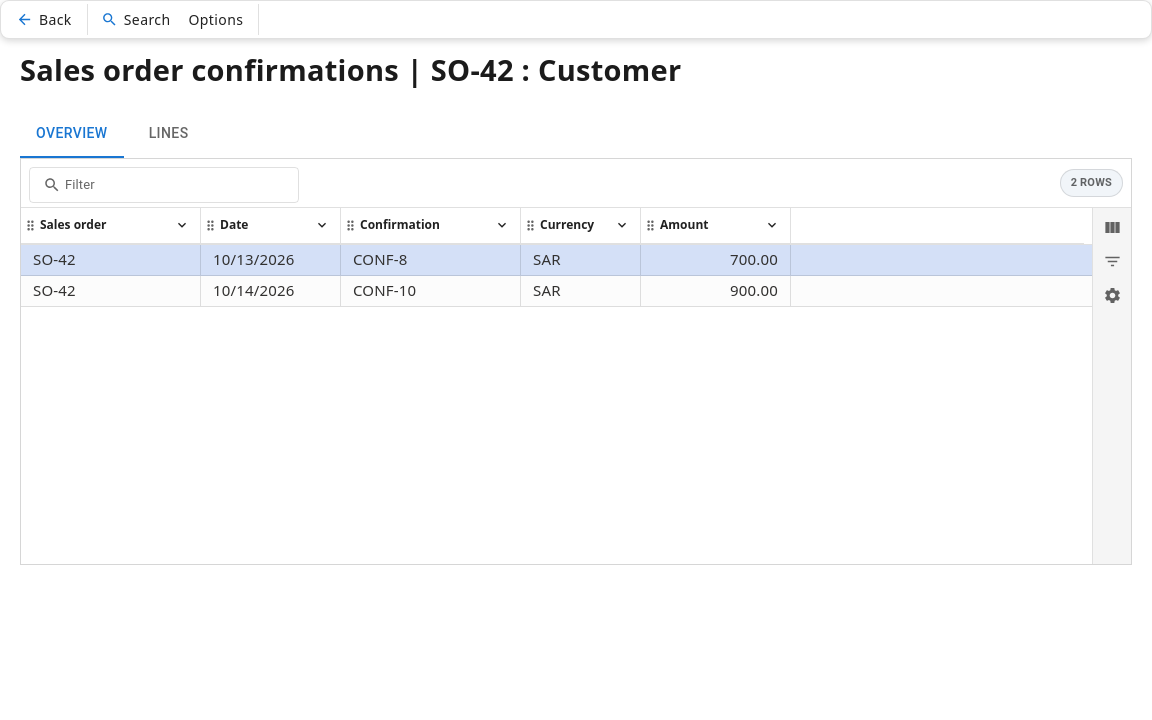
Scenario: CustConfirmJournal › shows lines for the selected confirmation and returns to overview
The width and height of the screenshot is (1152, 720).
Click the text "CONF-10" at (385, 290), box [353, 280, 416, 300]
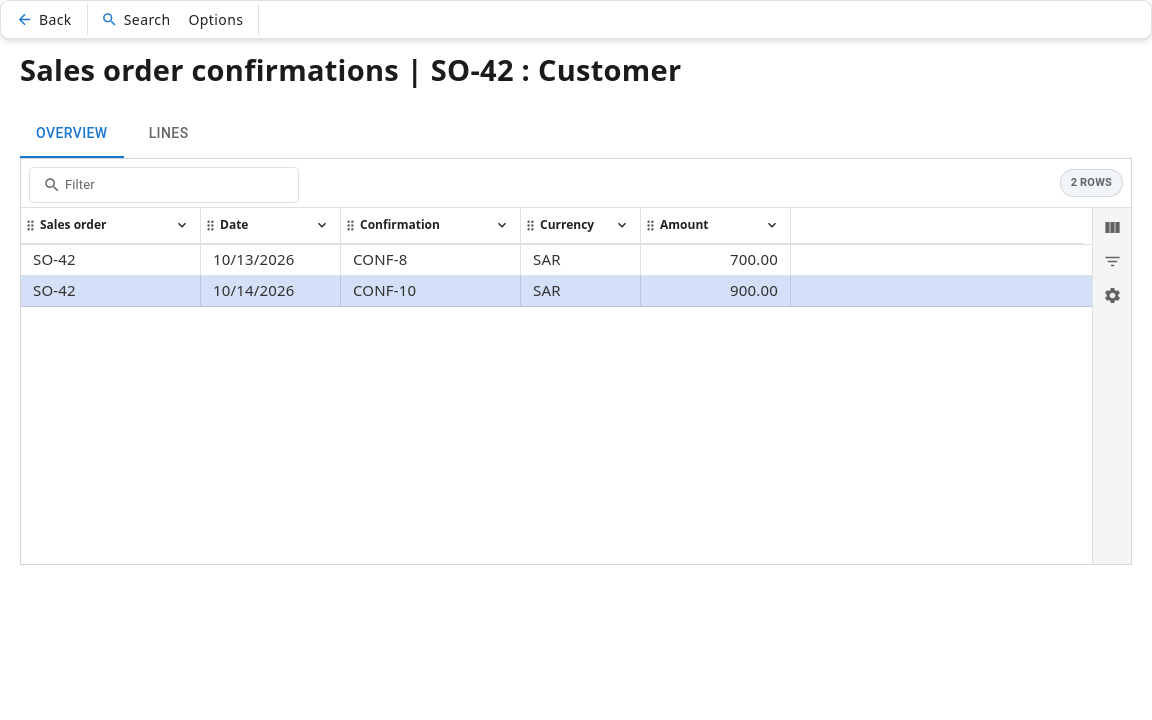
Click the tab "Lines" at (169, 134), box [124, 110, 214, 158]
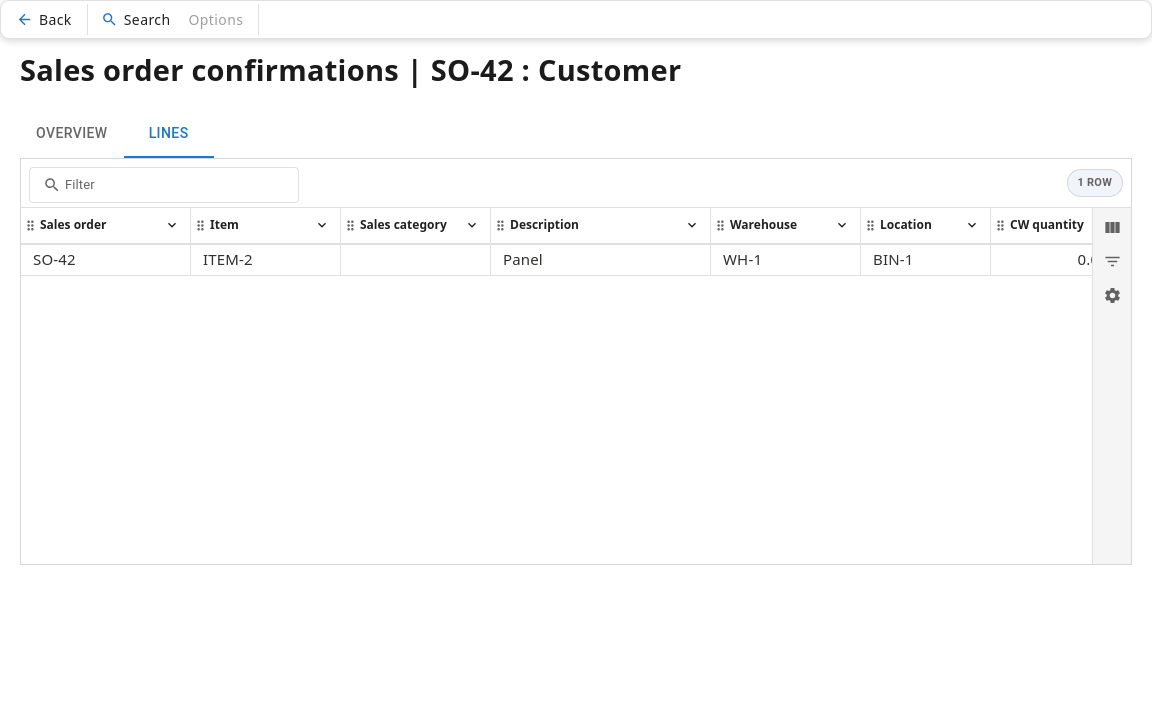
Result: the text "ITEM-2" is shown at [203, 249, 253, 269]
Click the tab "Overview" at (72, 134), box [20, 110, 124, 158]
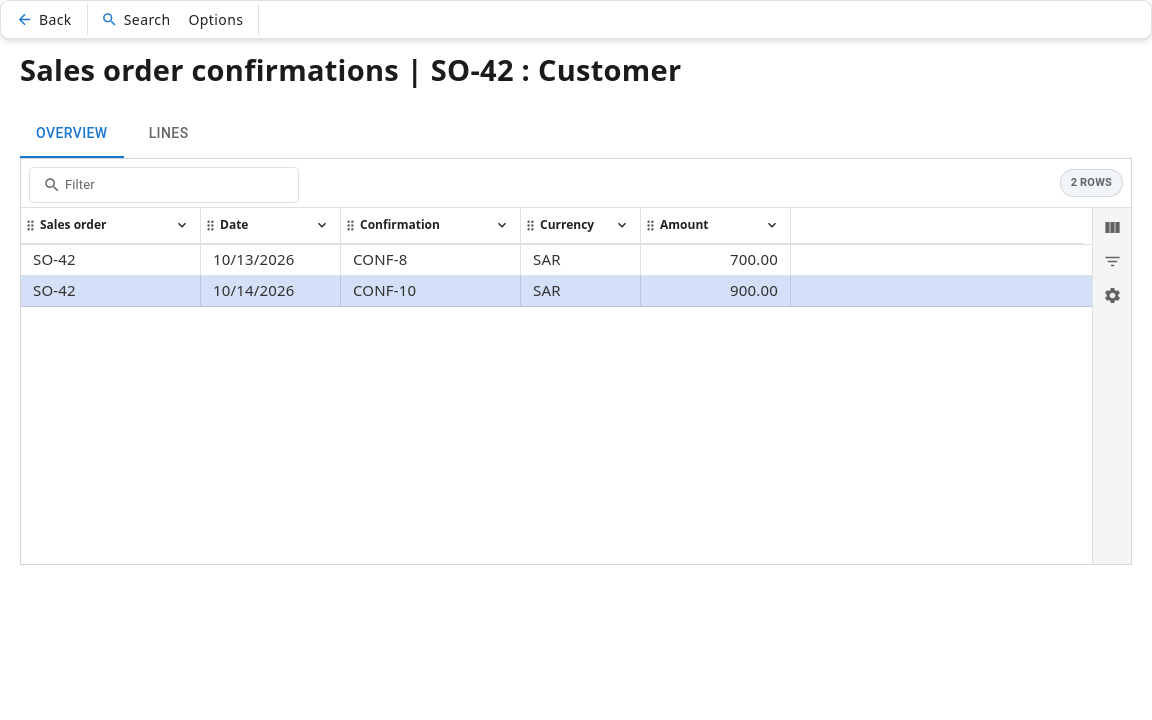
Result: the text "CONF-8" is shown at [353, 249, 408, 269]
Result: the text "CONF-10" is shown at [353, 280, 416, 300]
